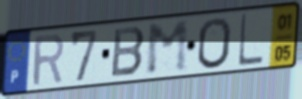7: (68, 28, 100, 84)
B: (109, 25, 147, 80)
L: (236, 12, 265, 70)
M: (146, 18, 190, 78)
O: (196, 15, 233, 71)
R: (31, 31, 66, 89)
